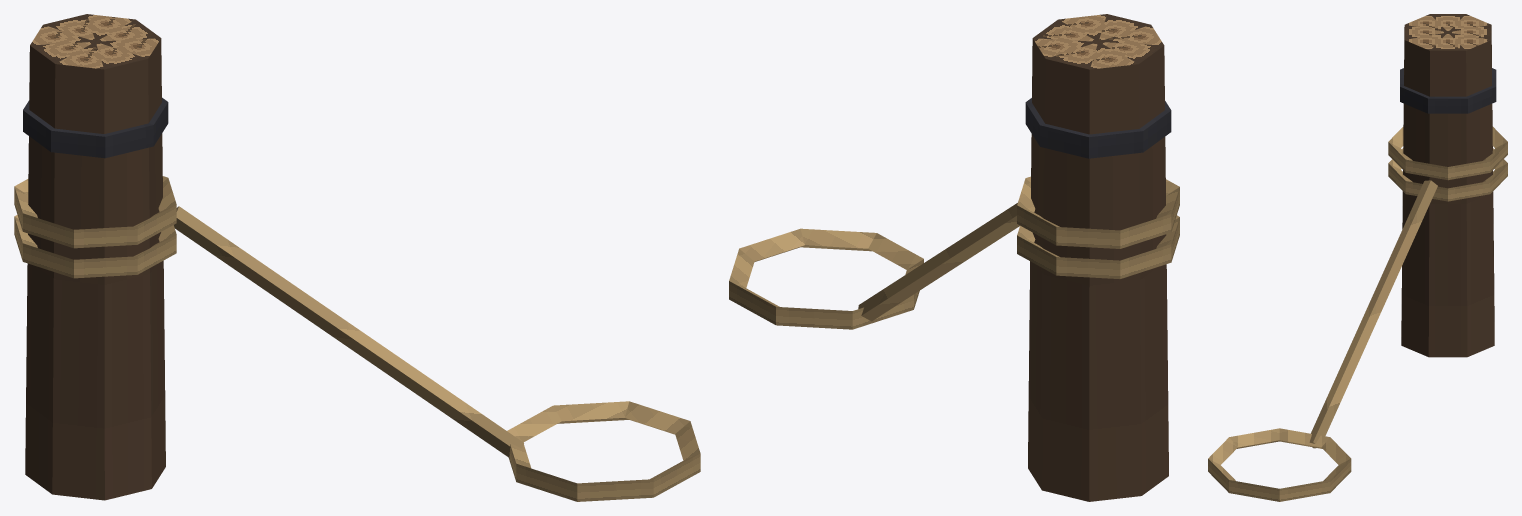
The model's file is mooring-post.glb.
3 renders of one model, left to right at view 1: azimuth 30°, elevation 25°; view 2: azimuth 150°, elevation 25°; view 3: azimuth 270°, elevation 25°, orthographic. The views are drawn at different scales.
Visible parts, largest first — view 1: mooring-post.001; view 2: mooring-post.001; view 3: mooring-post.001.
Boxes of the visible parts, x1,y1,x2,y2 form: mooring-post.001: [14, 14, 700, 501]; mooring-post.001: [729, 14, 1179, 501]; mooring-post.001: [1208, 14, 1507, 501].
Size of the model in its own units: 1.34 by 1 by 0.89.
1 material, 1 textured.
